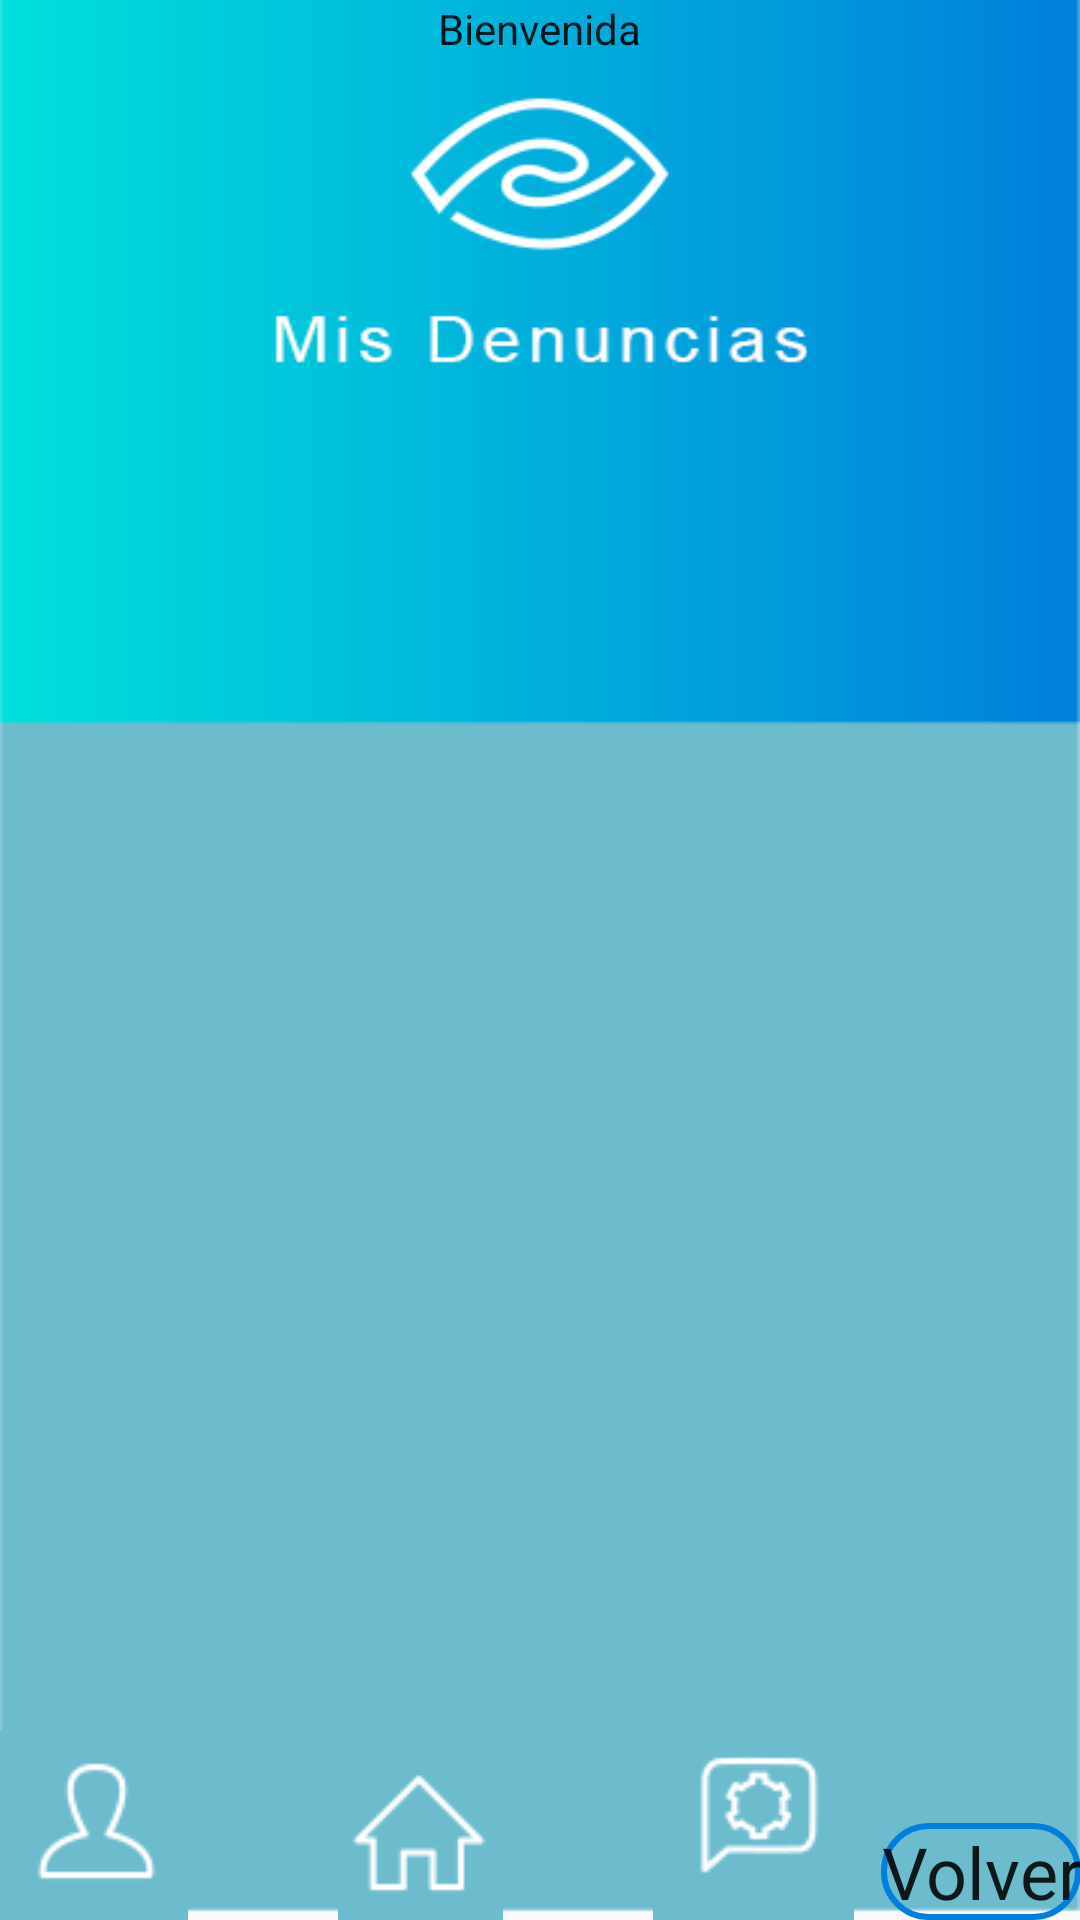

Locate icon controls on the screen. Image size 1080 × 1920, boxes as bbox=[x1, y1, x2, y2].
menuprincipal inicio: bbox=[353, 1775, 485, 1891]
menuprincipal perfil: bbox=[38, 1763, 155, 1879]
